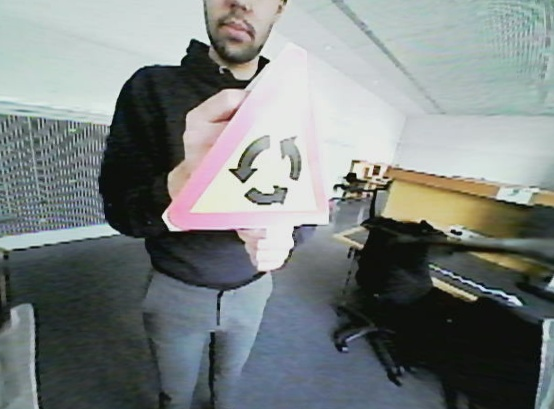roundabout_warning: (161, 40, 333, 239)
